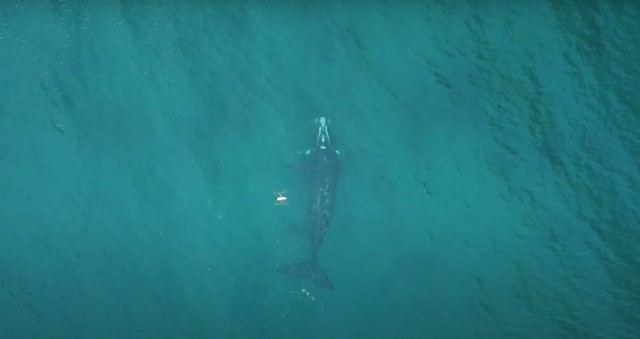whale: (272, 109, 353, 296)
